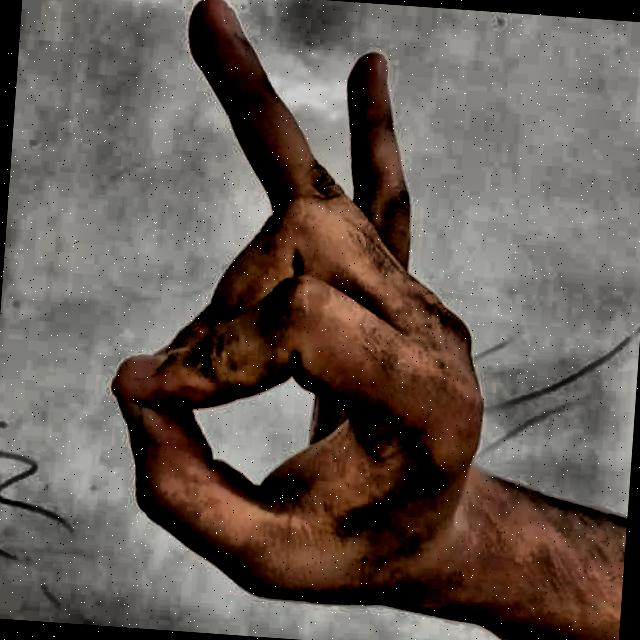Na: (43, 0, 536, 640)
